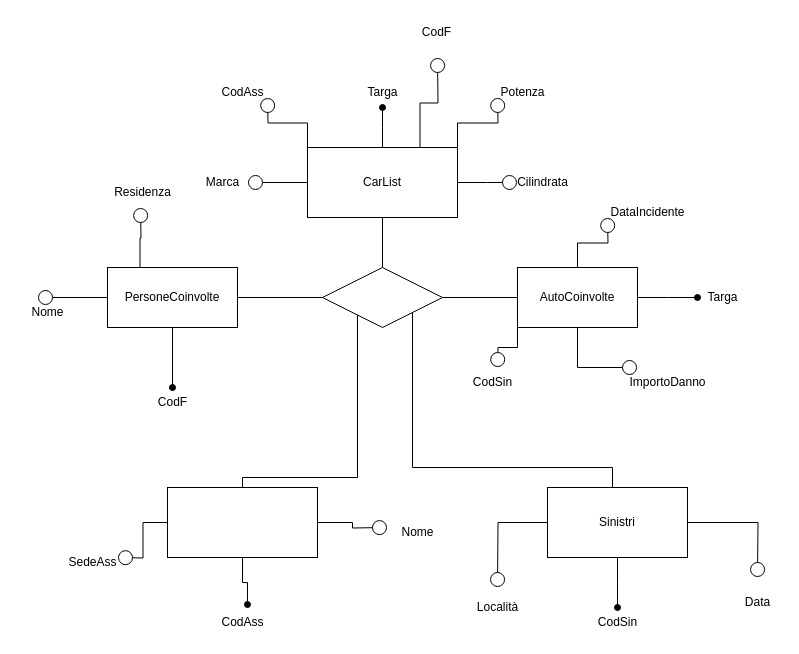
Image size: 799x654. Some labels were removed from this diagram. The shapes that lost their labels are listed below. From the top down, each one's centre as x and y in pixels, then its label:
At (x=382, y=297): "Incidenti".
At (x=242, y=522): "Assicurazioni".
